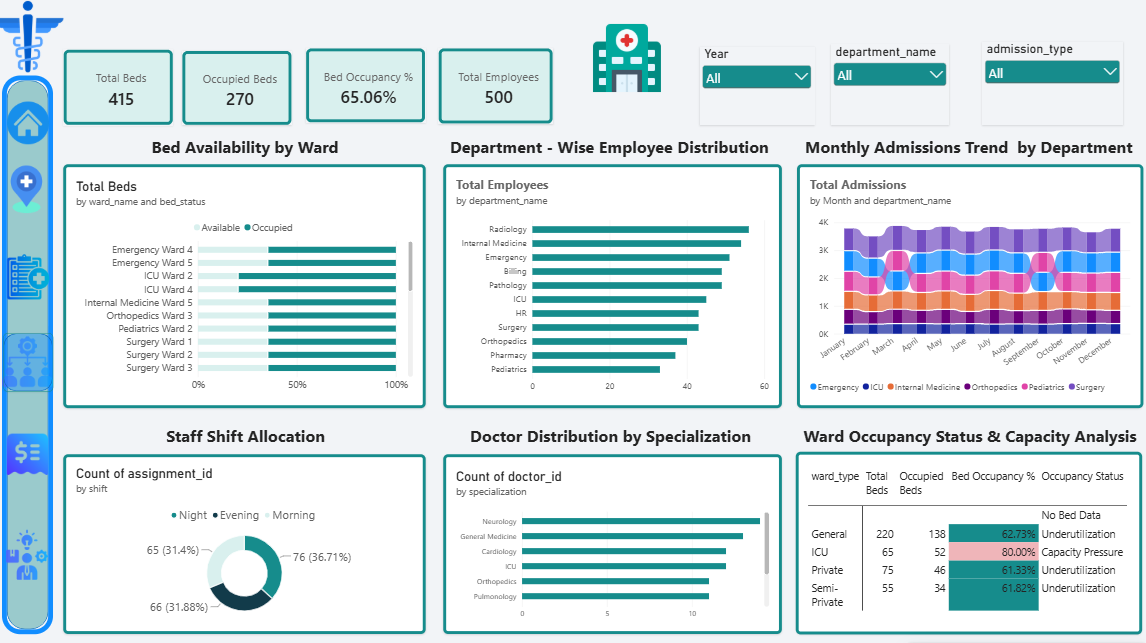

Layout of this report page (visuals, bound fields, positions):
{"tool":"powerbi","page":{"name":"Resource Capacity & Intelligence","canvas":[1920,1080],"ordinal":4},"visuals":[{"type":"cardVisual","fields":{"Data":["Measures (2).Total Beds"]},"box":[117.3,84.4,181.1,125.6],"z":0},{"type":"cardVisual","fields":{"Data":["Measures (2).Occupied Beds"]},"box":[312.9,86.4,181.1,123.5],"z":1000},{"type":"cardVisual","fields":{"Data":["Measures (2).Bed Occupancy %"]},"box":[516.6,82.3,197.6,123.5],"z":2000},{"type":"hundredPercentStackedBarChart","fields":{"Category":["ward_clean.ward_name"],"Series":["bed_clean.bed_status"],"Y":["Measures (2).Total Beds"]},"box":[117.3,273.8,596.9,401.4],"z":3000},{"type":"pivotTable","fields":{"Rows":["ward_clean.ward_type"],"Values":["Measures (2).Total Beds","Measures (2).Occupied Beds","Measures (2).Bed Occupancy %","Measures (2).Occupancy Status"]},"box":[1323.5,747.2,570.2,300.5],"z":4000},{"type":"donutChart","fields":{"Category":["staff_assignment_clean.shift"],"Y":["Count(staff_assignment_clean.assignment_id)"]},"box":[117.3,751.3,596.9,296.4],"z":5000},{"type":"barChart","fields":{"Category":["doctor_clean.specialization"],"Y":["Count(doctor_clean.doctor_id)"]},"box":[743.1,751.3,557.8,296.4],"z":6000},{"type":"slicer","fields":{"Values":["Calendar.Year"]},"box":[1165,80.3,189.4,129.7],"z":7000},{"type":"slicer","fields":{"Values":["department_clean.department_name"]},"box":[1381.1,76.2,195.5,133.8],"z":8000},{"type":"slicer","fields":{"Values":["admission_clean.admission_type"]},"box":[1630.2,72,232.6,137.9],"z":9000},{"type":"clusteredBarChart","fields":{"Category":["department_clean.department_name"],"Y":["Measures (2).Total Employees"]},"box":[743.1,273.8,557.8,401.4],"z":10000},{"type":"shape","box":[16.5,127.6,84.4,920.1],"z":11000},{"type":"image","box":[0,0,117.3,127.6],"z":12000},{"type":"image","box":[983.9,0,123.5,197.6],"z":13000},{"type":"image","box":[24.6,158.7,70,94.7],"z":14000},{"type":"image","box":[16.5,642.2,84.4,218.2],"z":15000},{"type":"image","box":[16.5,496.1,84.4,205.8],"z":16000},{"type":"image","box":[16.5,846,82.3,142],"z":17000},{"type":"image","box":[6.2,422,107,74.1],"z":18000},{"type":"cardVisual","fields":{"Data":["Measures (2).Total Employees"]},"box":[734.8,82.3,189.4,125.6],"z":19000},{"type":"ribbonChart","fields":{"Category":["Calendar.Date.Variation.Date Hierarchy.Month"],"Series":["department_clean.department_name"],"Y":["Measures (2).Total Admissions"]},"box":[1325.6,273.8,570.2,401.4],"z":20000},{"type":"image","box":[0,274.9,114,78.2],"z":21000},{"type":"textbox","box":[118.4,225.7,594.4,49.2],"z":22000},{"type":"textbox","box":[744.1,225.7,543,49.2],"z":23000},{"type":"textbox","box":[1322.9,225.7,569.8,49.2],"z":24000},{"type":"textbox","box":[118.4,701.7,596.7,49.2],"z":25000},{"type":"textbox","box":[735.2,701.7,567.6,44.7],"z":26000},{"type":"textbox","box":[1325.2,701.7,569.8,49.2],"z":27000},{"type":"shape","box":[18.5,551.6,82.3,96.7],"z":28000}]}

Visuals, with their boxes on the page's 1920x1080 design canvas (x1, y1, x2, y2). These are canvas units, not pixel positions in the 1146x643 screenshot, which may show the page scaled, cropped or inside an application window:
cardVisual - Measures (2).Total Beds: <region>117, 84, 298, 210</region>
cardVisual - Measures (2).Occupied Beds: <region>313, 86, 494, 210</region>
cardVisual - Measures (2).Bed Occupancy %: <region>517, 82, 714, 206</region>
hundredPercentStackedBarChart - ward_clean.ward_name x bed_clean.bed_status: <region>117, 274, 714, 675</region>
pivotTable - ward_clean.ward_type x Measures (2).Total Beds: <region>1324, 747, 1894, 1048</region>
donutChart - staff_assignment_clean.shift x Count(staff_assignment_clean.assignment_id): <region>117, 751, 714, 1048</region>
barChart - doctor_clean.specialization x Count(doctor_clean.doctor_id): <region>743, 751, 1301, 1048</region>
slicer - Calendar.Year: <region>1165, 80, 1354, 210</region>
slicer - department_clean.department_name: <region>1381, 76, 1577, 210</region>
slicer - admission_clean.admission_type: <region>1630, 72, 1863, 210</region>
clusteredBarChart - department_clean.department_name x Measures (2).Total Employees: <region>743, 274, 1301, 675</region>
shape: <region>16, 128, 101, 1048</region>
image: <region>0, 0, 117, 128</region>
image: <region>984, 0, 1107, 198</region>
image: <region>25, 159, 95, 253</region>
image: <region>16, 642, 101, 860</region>
image: <region>16, 496, 101, 702</region>
image: <region>16, 846, 99, 988</region>
image: <region>6, 422, 113, 496</region>
cardVisual - Measures (2).Total Employees: <region>735, 82, 924, 208</region>
ribbonChart - Calendar.Date.Variation.Date Hierarchy.Month x department_clean.department_name: <region>1326, 274, 1896, 675</region>
image: <region>0, 275, 114, 353</region>
textbox: <region>118, 226, 713, 275</region>
textbox: <region>744, 226, 1287, 275</region>
textbox: <region>1323, 226, 1893, 275</region>
textbox: <region>118, 702, 715, 751</region>
textbox: <region>735, 702, 1303, 746</region>
textbox: <region>1325, 702, 1895, 751</region>
shape: <region>18, 552, 101, 648</region>
